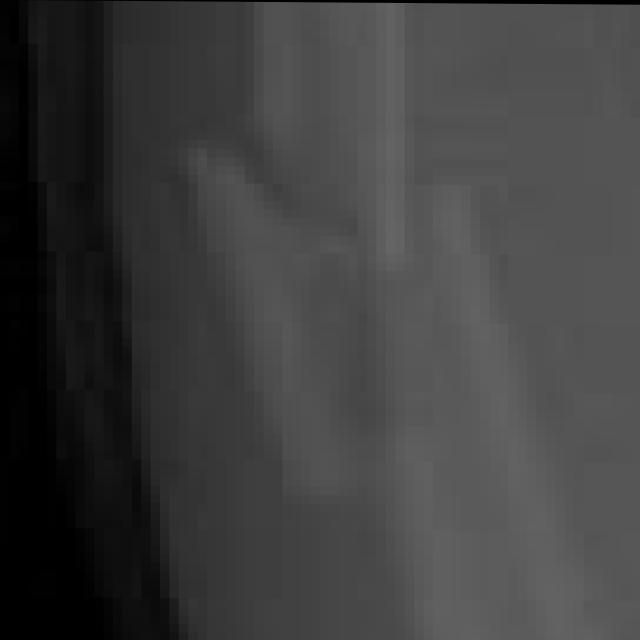fracture: (0, 3, 640, 640)
